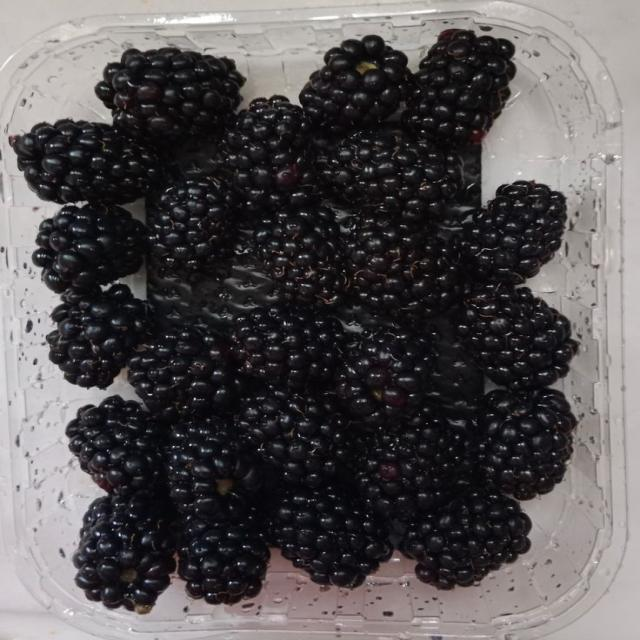raspberry: (526, 0, 639, 381), (543, 460, 639, 639), (165, 416, 267, 556), (400, 487, 531, 589), (267, 485, 392, 587), (235, 387, 350, 487), (0, 0, 176, 59), (231, 307, 345, 390), (178, 512, 270, 604), (0, 584, 90, 639), (623, 390, 639, 457)
